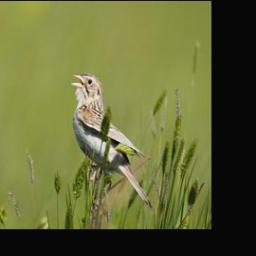Sparrow: (69, 71, 152, 208)
